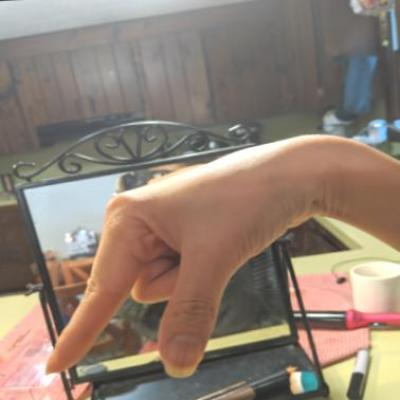hand: (28, 130, 333, 391)
